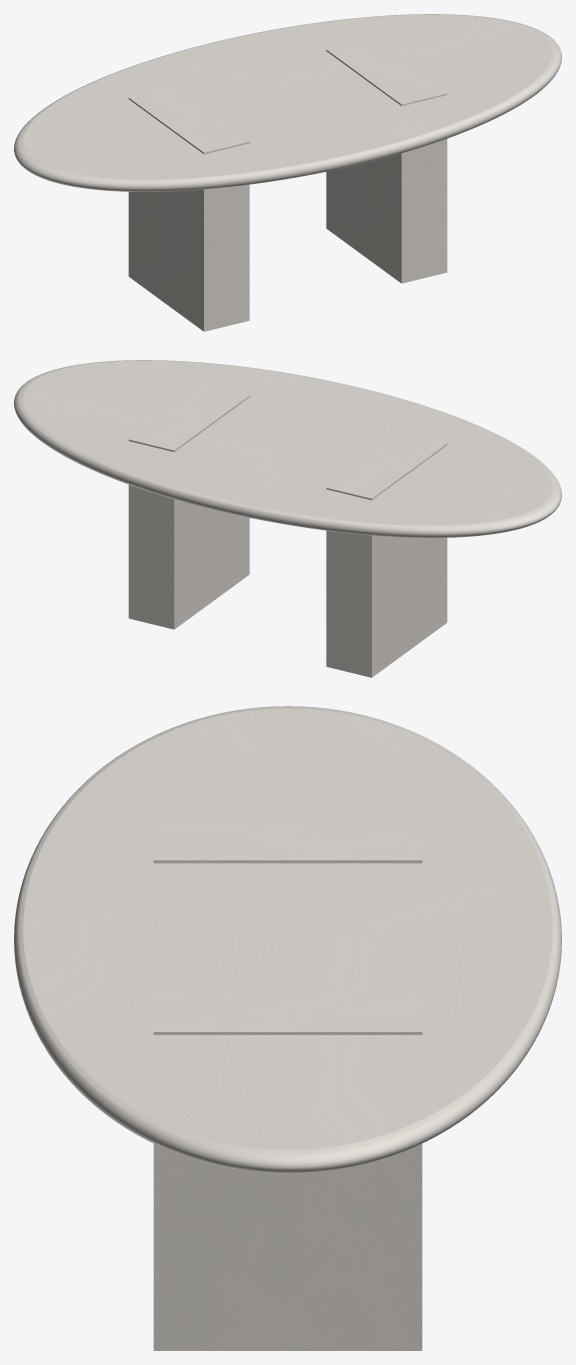
Rendered from pearlwhite_ellips_round_ridge.glb.
The picture shows the model from 3 angles, top to bottom: view 1: azimuth 30°, elevation 25°; view 2: azimuth 150°, elevation 25°; view 3: azimuth 270°, elevation 25°; orthographic projection. The views are drawn at different scales.
Visible parts, largest first — view 1: tabletop_ellips_round.015, tableleg_ridge.002; view 2: tabletop_ellips_round.015, tableleg_ridge.002; view 3: tabletop_ellips_round.015, tableleg_ridge.002.
Part boxes in pixels (<box>): tabletop_ellips_round.015: <box>14,14,561,191</box>; tableleg_ridge.002: <box>128,38,447,331</box>; tabletop_ellips_round.015: <box>14,360,561,537</box>; tableleg_ridge.002: <box>128,384,447,677</box>; tabletop_ellips_round.015: <box>14,706,561,1173</box>; tableleg_ridge.002: <box>153,820,422,1350</box>.
Size of the model in its own units: 7.5 by 2.44 by 3.8.
Materials: 2 (2 with a texture image).
